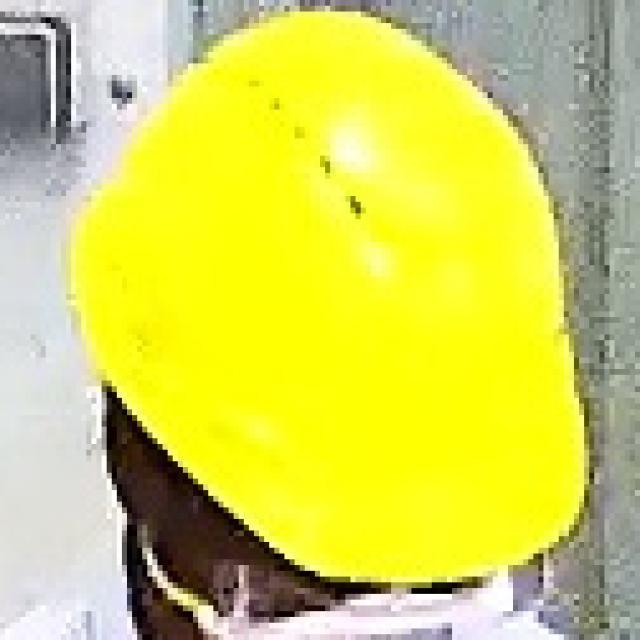yellow helmet: (70, 13, 598, 586)
